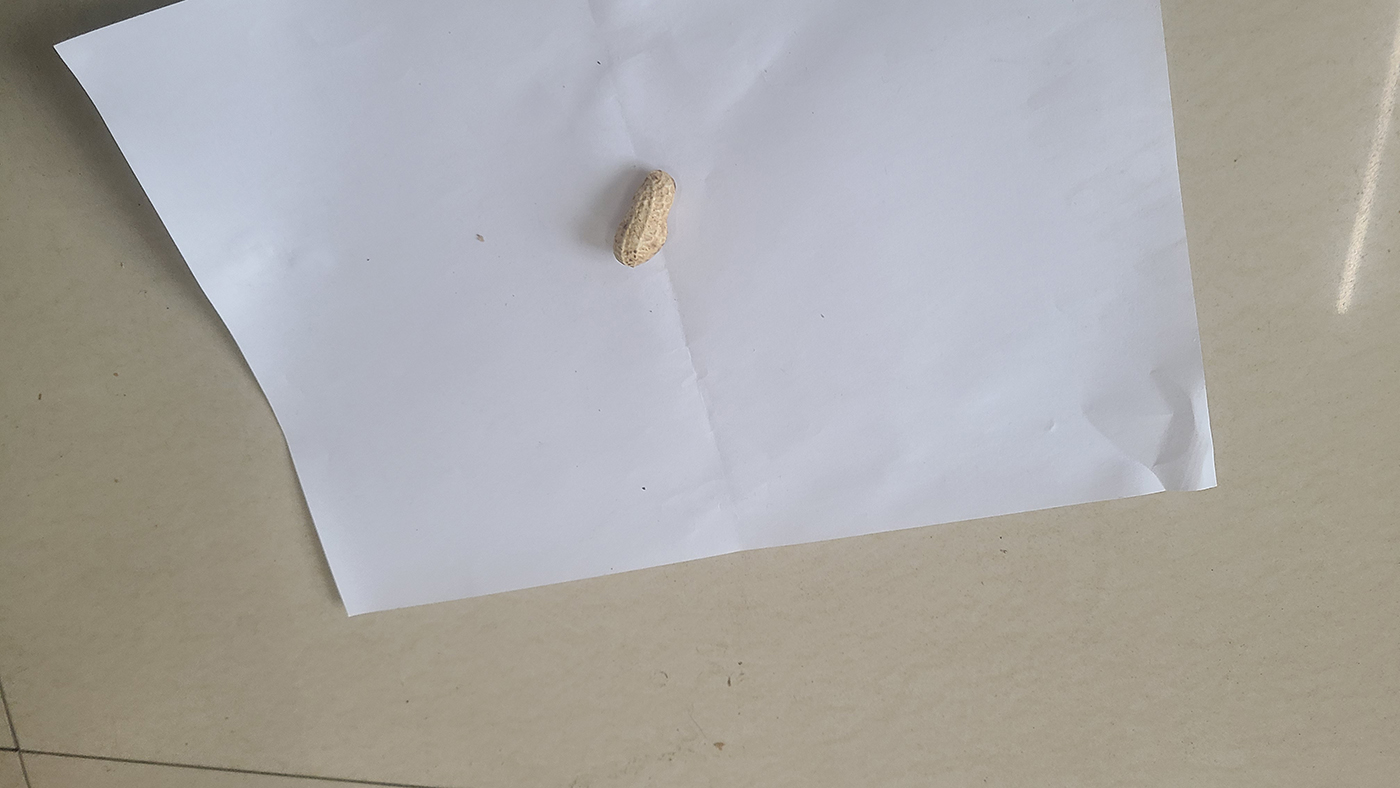h: (612, 168, 678, 266)
